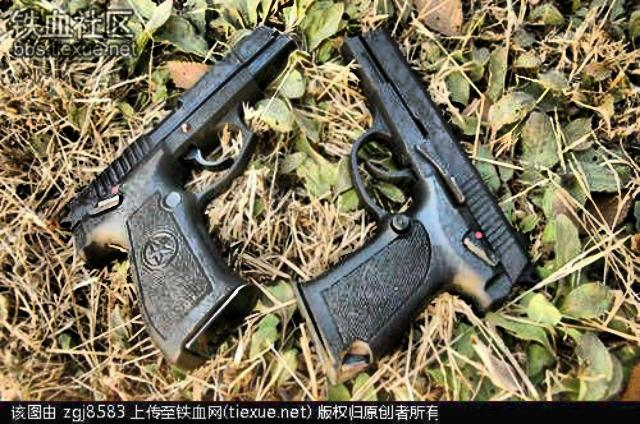pistol: (55, 22, 298, 374), (292, 28, 532, 372)
